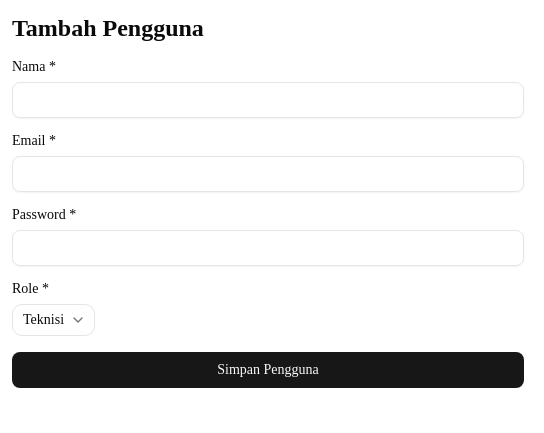
Scenario: CreateUserPage › rejects a password shorter than 8 characters
This screenshot has width=544, height=433.
Type "Teknisi Baru" into the field labelled "Nama *". click: (268, 100)
box: [12,82,524,118]
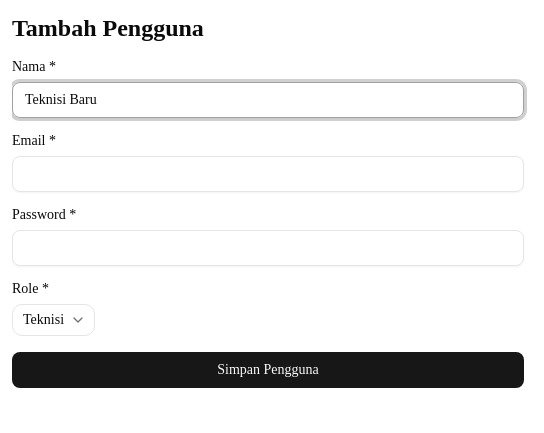
Type "teknisi@example.test" into the field labelled "Email *". click: (268, 174)
box: [12,156,524,192]
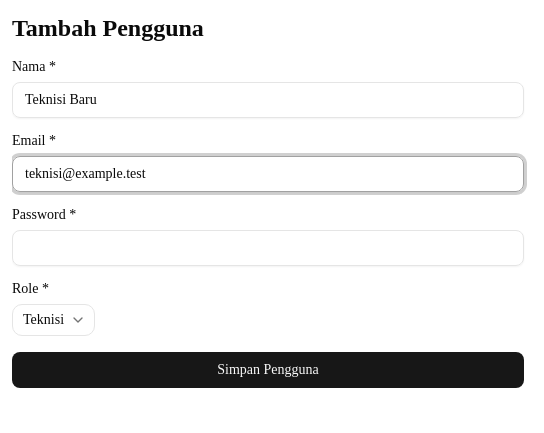
Type "short1" into the password field labelled "Password *". click: (268, 248)
box: [12,230,524,266]
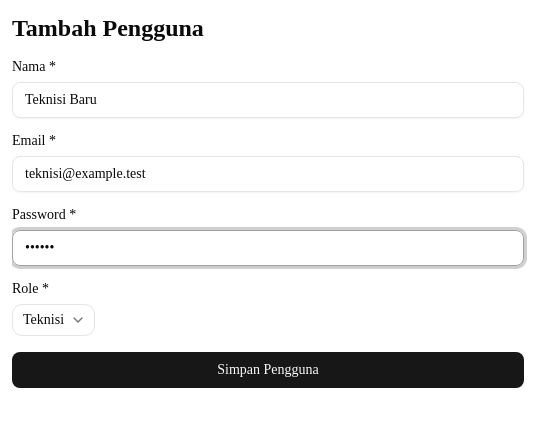
Click the button "Simpan Pengguna". click: click(268, 370)
box: [12,352,524,388]
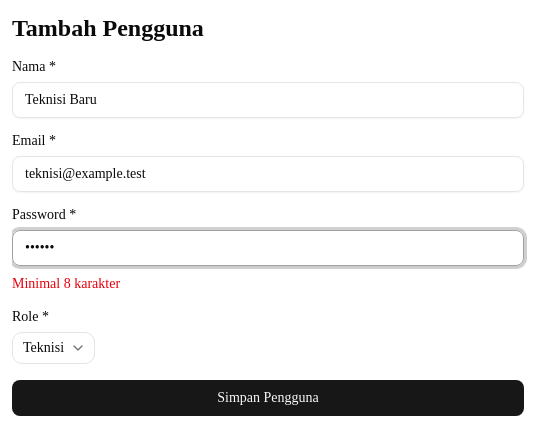
expect the text "Minimal 8 karakter" is shown: met, box [12,276,120,291]
